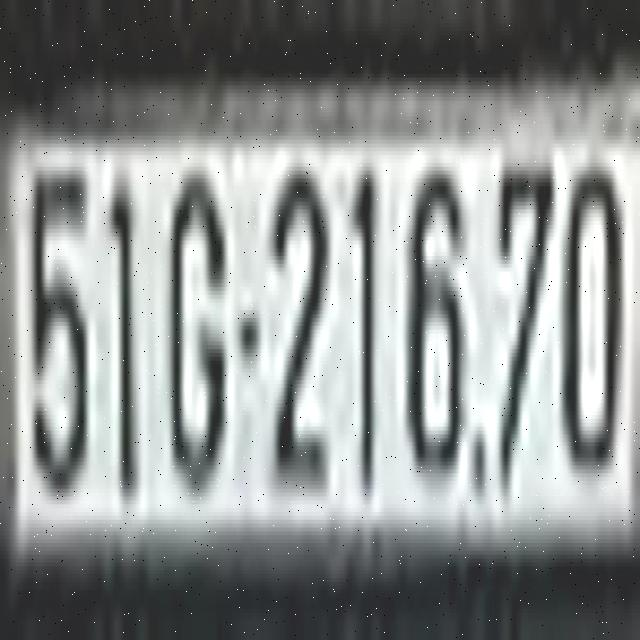0: (564, 158, 627, 522)
1: (107, 166, 145, 524), (352, 152, 383, 509)
2: (271, 162, 334, 506)
5: (24, 158, 96, 529)
6: (406, 145, 461, 508)
7: (498, 148, 559, 520)
G: (169, 164, 229, 492)
